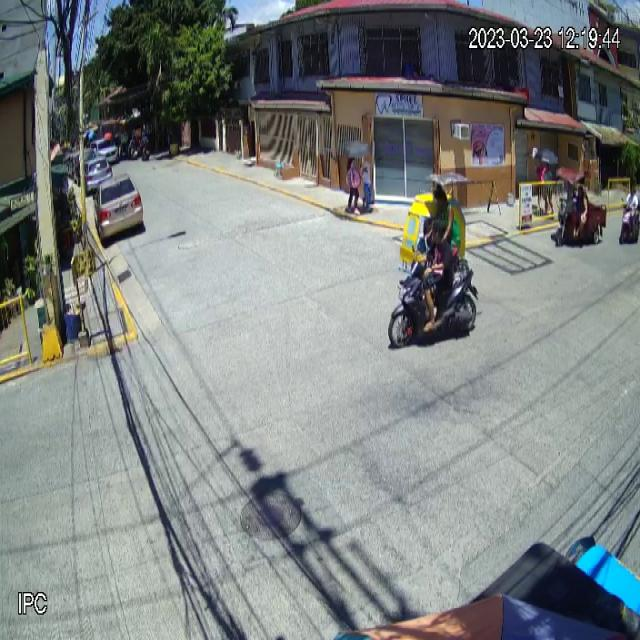Car: (93, 172, 144, 244)
Motorcycle: (388, 243, 479, 349)
